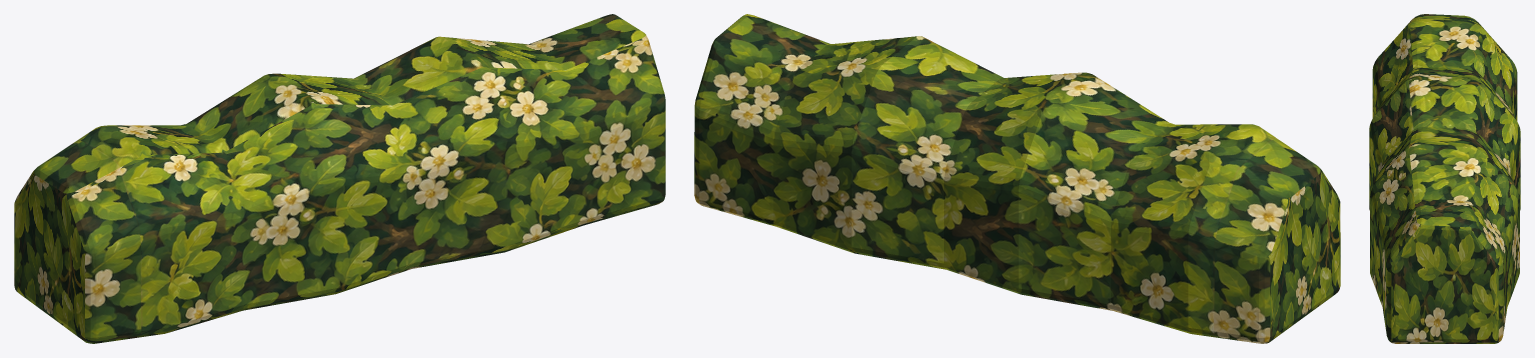
Rendered from hawthorn_hedge.glb.
The picture shows the model from 3 angles, left to right: view 1: azimuth 30°, elevation 25°; view 2: azimuth 150°, elevation 25°; view 3: azimuth 270°, elevation 25°; orthographic projection. The views are drawn at different scales.
Visible parts, largest first — view 1: Continuous hand-shaped hawthorn; view 2: Continuous hand-shaped hawthorn; view 3: Continuous hand-shaped hawthorn.
Part boxes in pixels (box(x1,y1,x2,y2)): Continuous hand-shaped hawthorn: box(14, 14, 665, 343); Continuous hand-shaped hawthorn: box(694, 14, 1340, 343); Continuous hand-shaped hawthorn: box(1369, 14, 1520, 343).
Size of the model in its own units: 6.4 by 1.97 by 1.84.
Materials: 2 (2 with a texture image).
